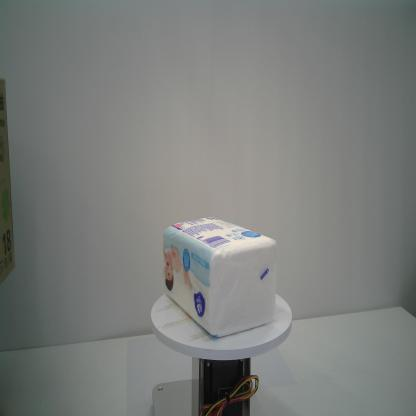Tissue: (162, 216, 277, 338)
